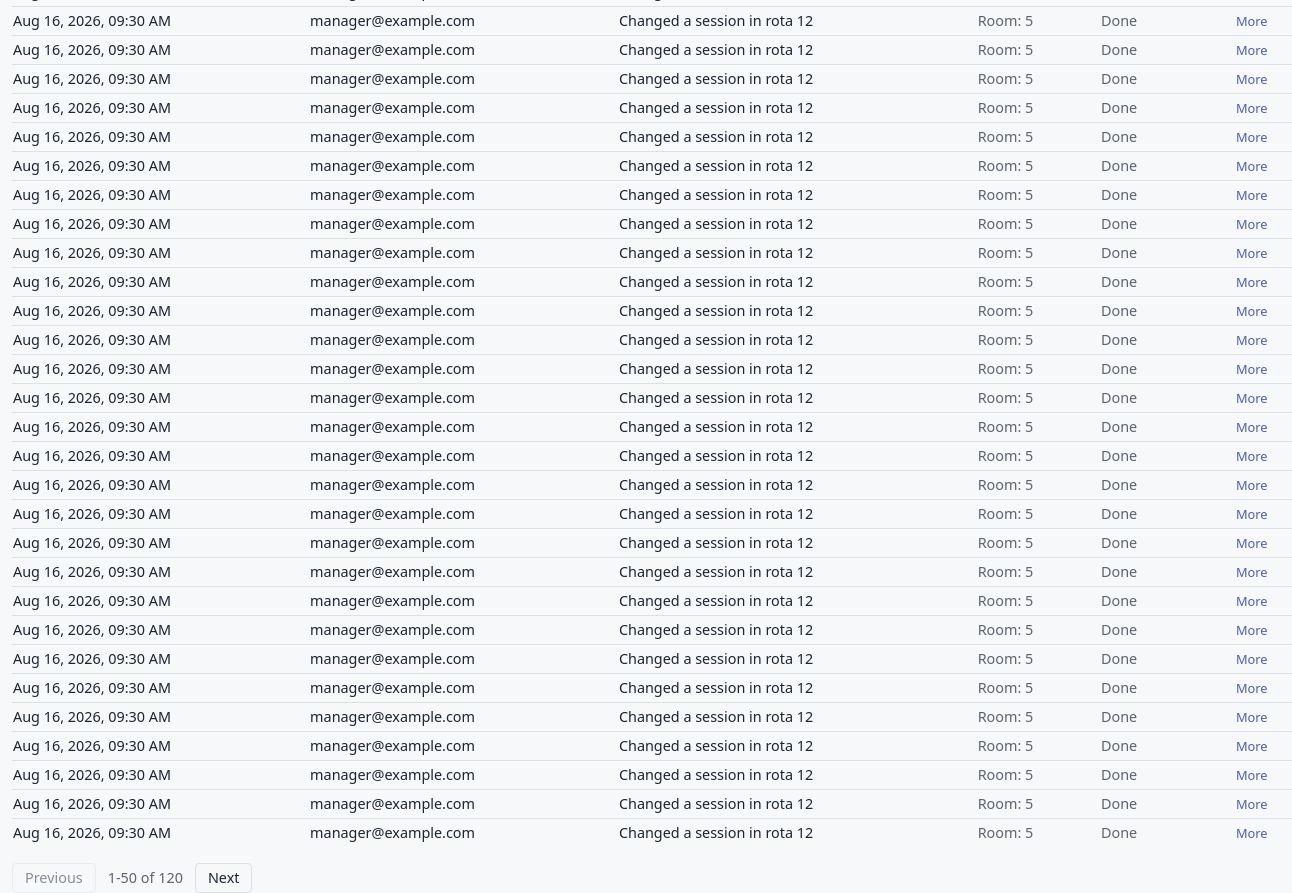
Scenario: AuditLogPage paging › shows the range and total, and pages forward and back
(page scrolled)
Expected: the text "1-50 of 120" is shown, [108,868,183,888]
Expected: the button "Previous" is disabled, [12,863,96,892]
Click the button "Next".
click(224, 878)  # box [195,863,252,892]
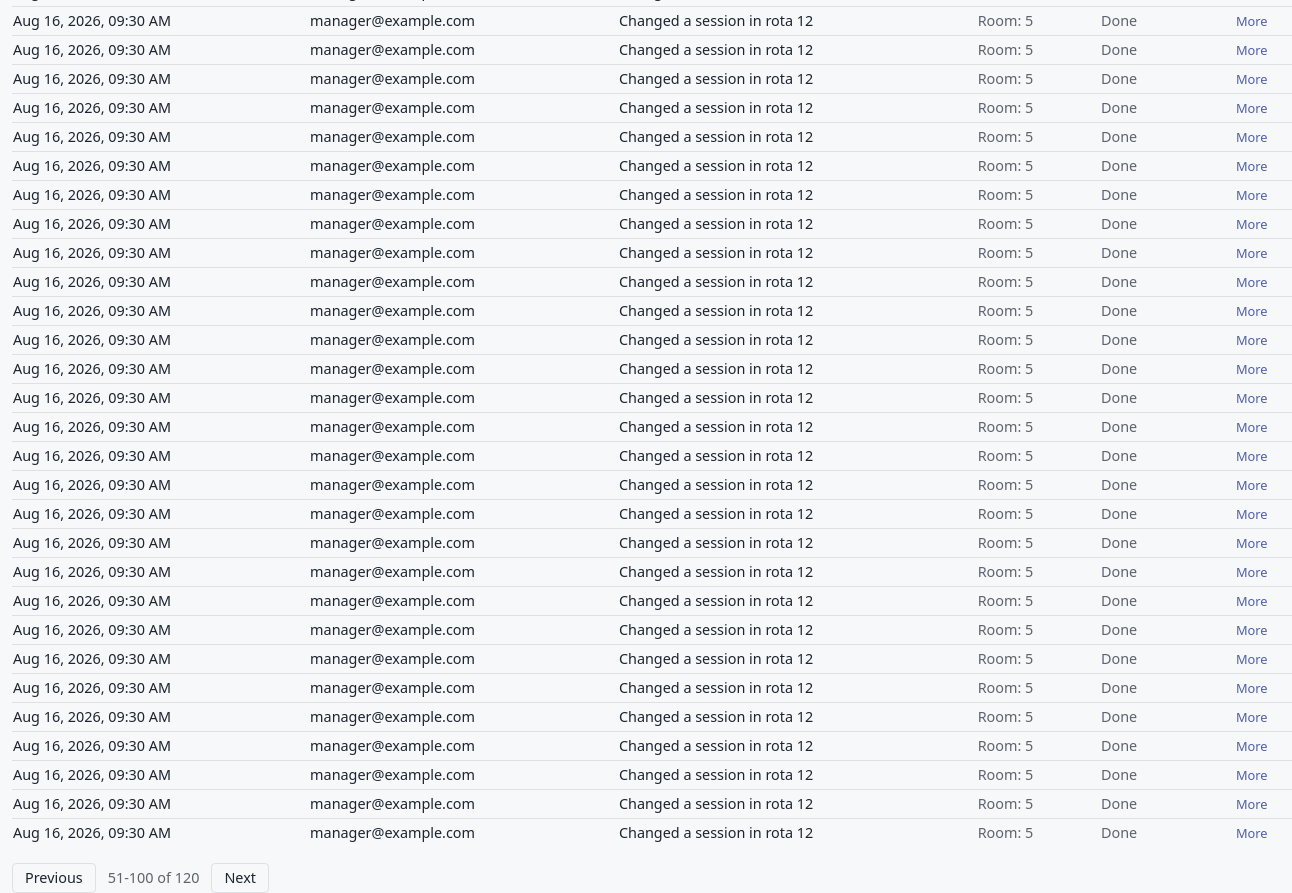
Now the text "51-100 of 120" is shown, box [108,868,199,888]
Click the button "Previous".
click(54, 878)  # box [12,863,96,892]
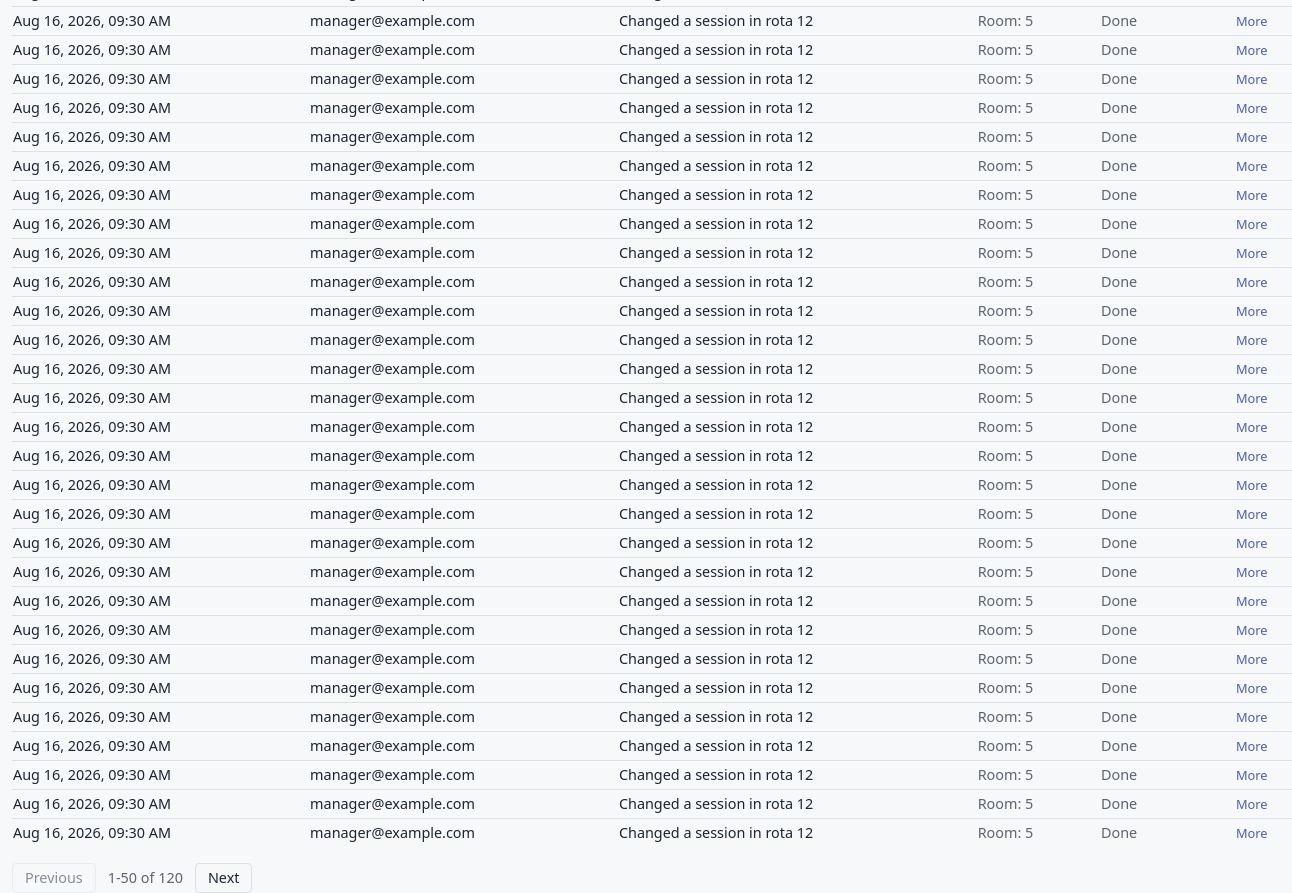
Now the text "1-50 of 120" is shown, box [108,868,183,888]
